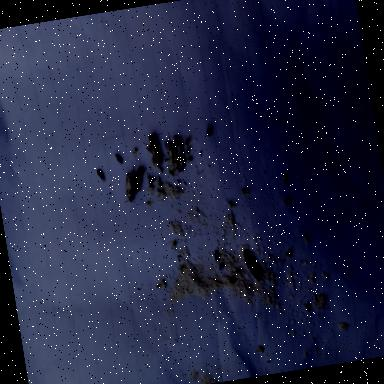pbw: (163, 134, 185, 174), (242, 248, 265, 282), (140, 133, 162, 166), (128, 164, 150, 195), (122, 164, 138, 202)
